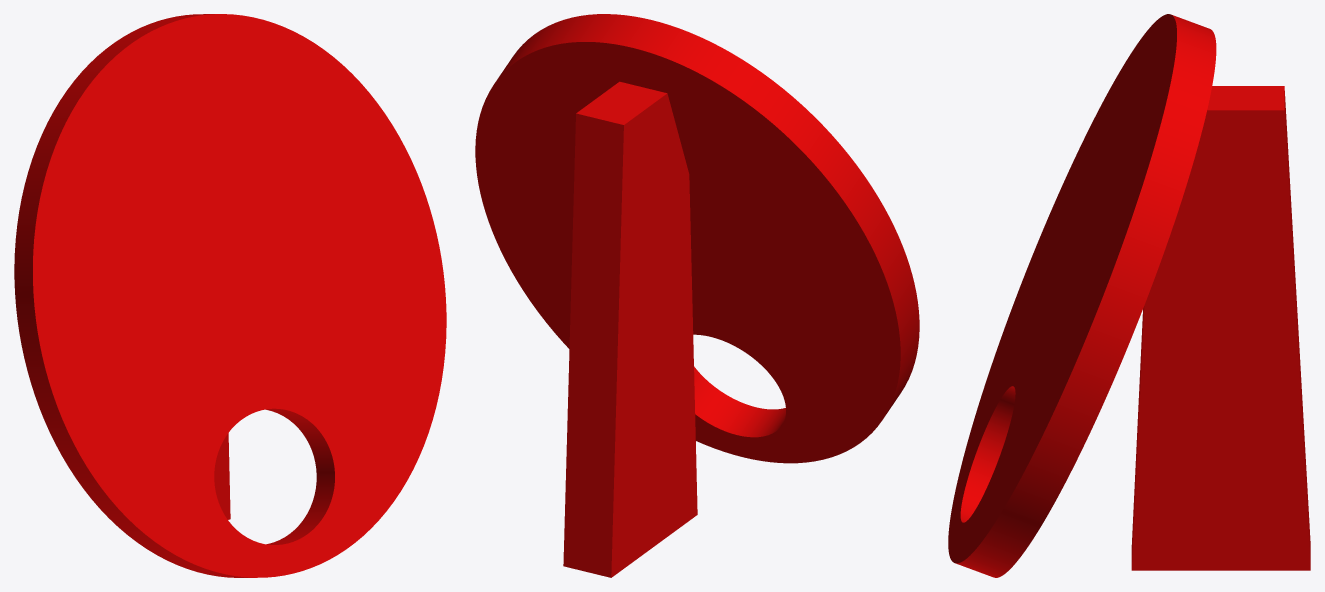
The model's file is drugeot.glb.
The picture shows the model from 3 angles, left to right: view 1: azimuth 30°, elevation 25°; view 2: azimuth 150°, elevation 25°; view 3: azimuth 270°, elevation 25°; orthographic projection. The views are drawn at different scales.
Size of the model in its own units: 0.406 by 0.4769 by 0.2991.
